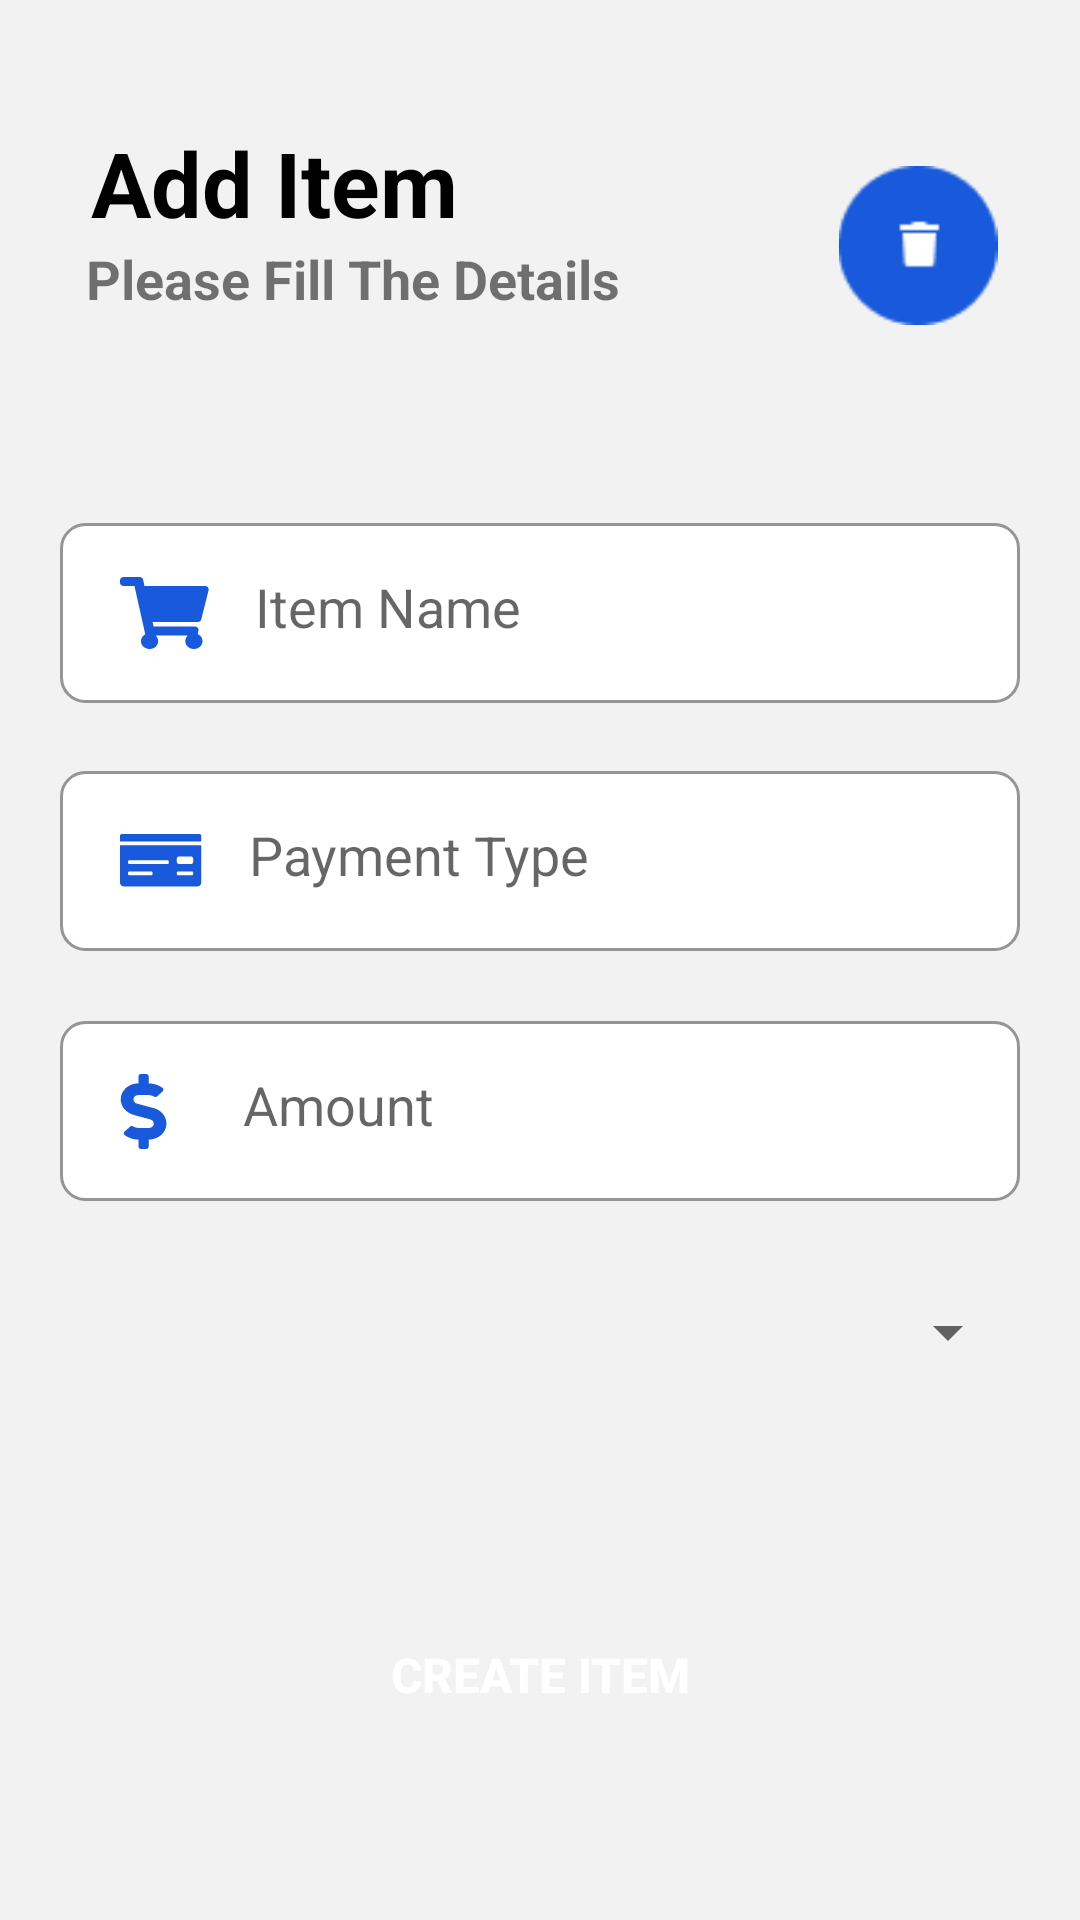

Locate icon controls on the screen. Image size 1080px x 1920px, boxes as (x1, y1, x2, y2).
dustbin: (839, 166, 998, 325)
